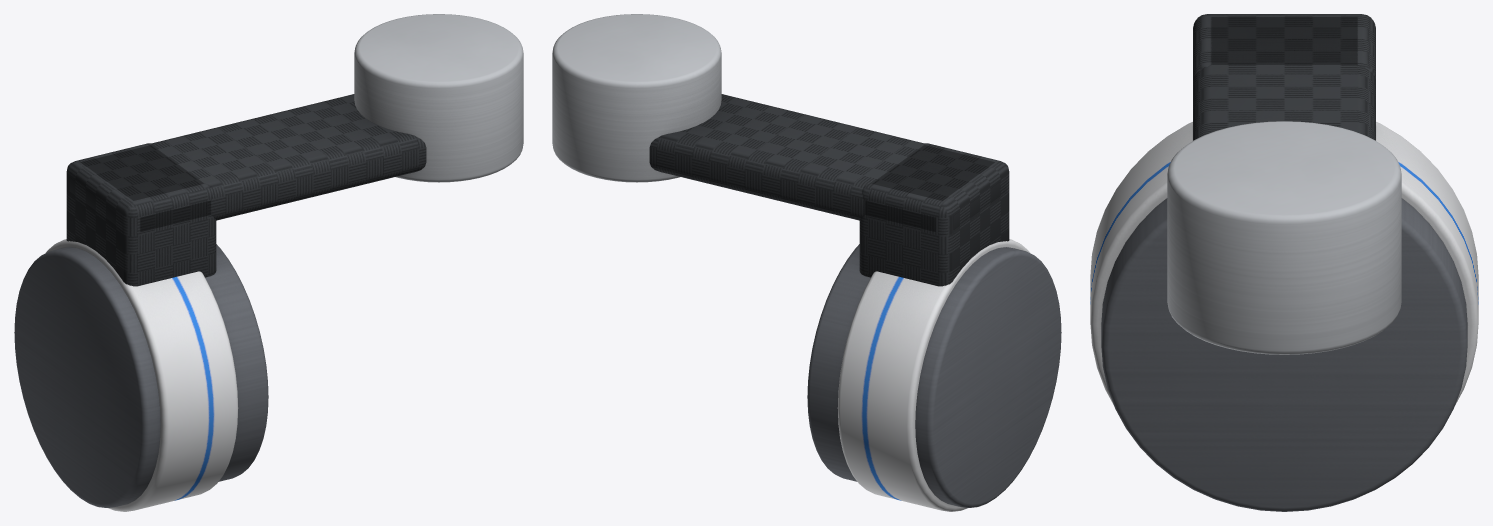
The model's file is right_hip_yaw.glb.
3 renders of one model, left to right at view 1: azimuth 30°, elevation 25°; view 2: azimuth 150°, elevation 25°; view 3: azimuth 270°, elevation 25°, orthographic. The views are drawn at different scales.
Parts seen in each view (by area): view 1: right_hip_yaw; view 2: right_hip_yaw; view 3: right_hip_yaw.
Part boxes in pixels (x1=…): right_hip_yaw: x1=14, y1=14, x2=523, y2=511; right_hip_yaw: x1=552, y1=14, x2=1061, y2=511; right_hip_yaw: x1=1090, y1=14, x2=1478, y2=511.
Size of the model in its own units: 0.1895 by 0.155 by 0.106.
1 material, 1 textured.
